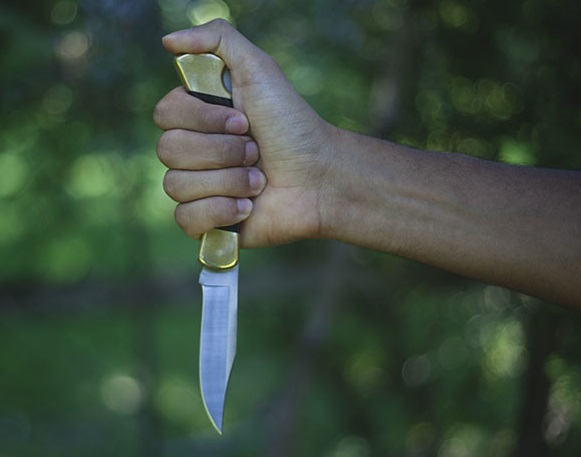knife: (148, 127, 271, 445)
